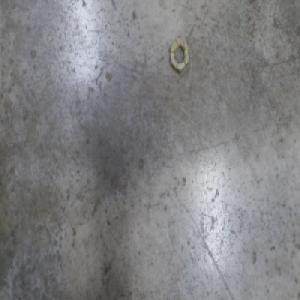Nut: (169, 32, 189, 72)
